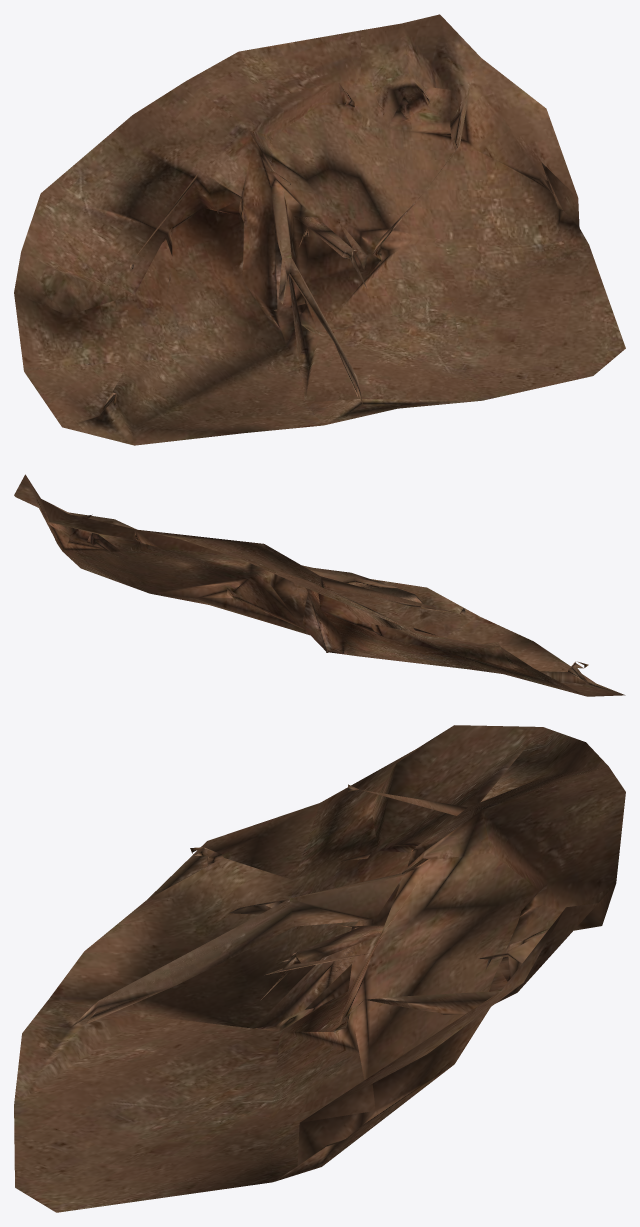
Rendered from root_cluster_01.glb.
3 renders of one model, top to bottom at view 1: azimuth 30°, elevation 25°; view 2: azimuth 150°, elevation 25°; view 3: azimuth 270°, elevation 25°, orthographic. The views are drawn at different scales.
Visible parts, largest first — view 1: root_cluster_01; view 2: root_cluster_01; view 3: root_cluster_01.
Boxes of the visible parts, bbox=[...] form: root_cluster_01: bbox=[14, 14, 625, 445]; root_cluster_01: bbox=[14, 474, 625, 696]; root_cluster_01: bbox=[14, 725, 625, 1212].
Bounding box in the file's own units: 4.09 × 1.5 × 2.68.
1 material, 1 textured.
